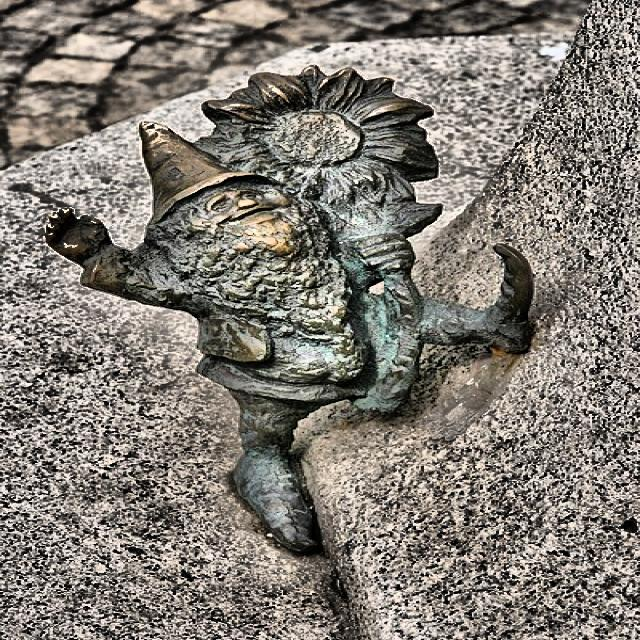Zyczliwek: (47, 68, 531, 552)
